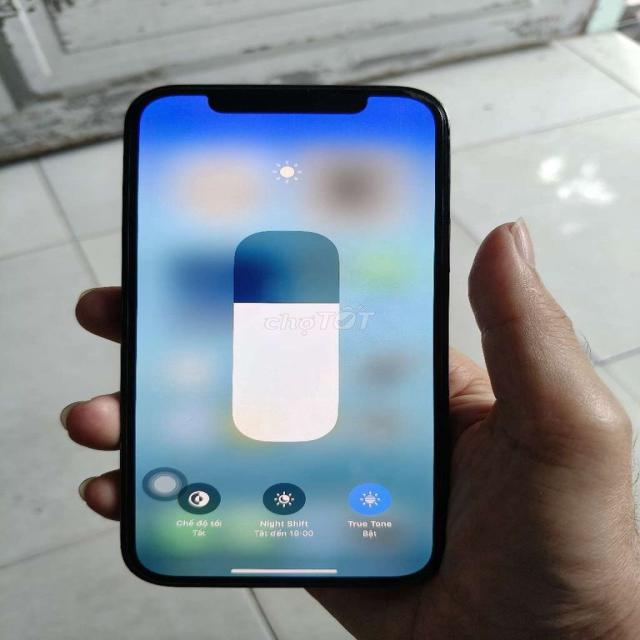gen_12_13: (113, 65, 460, 590)
